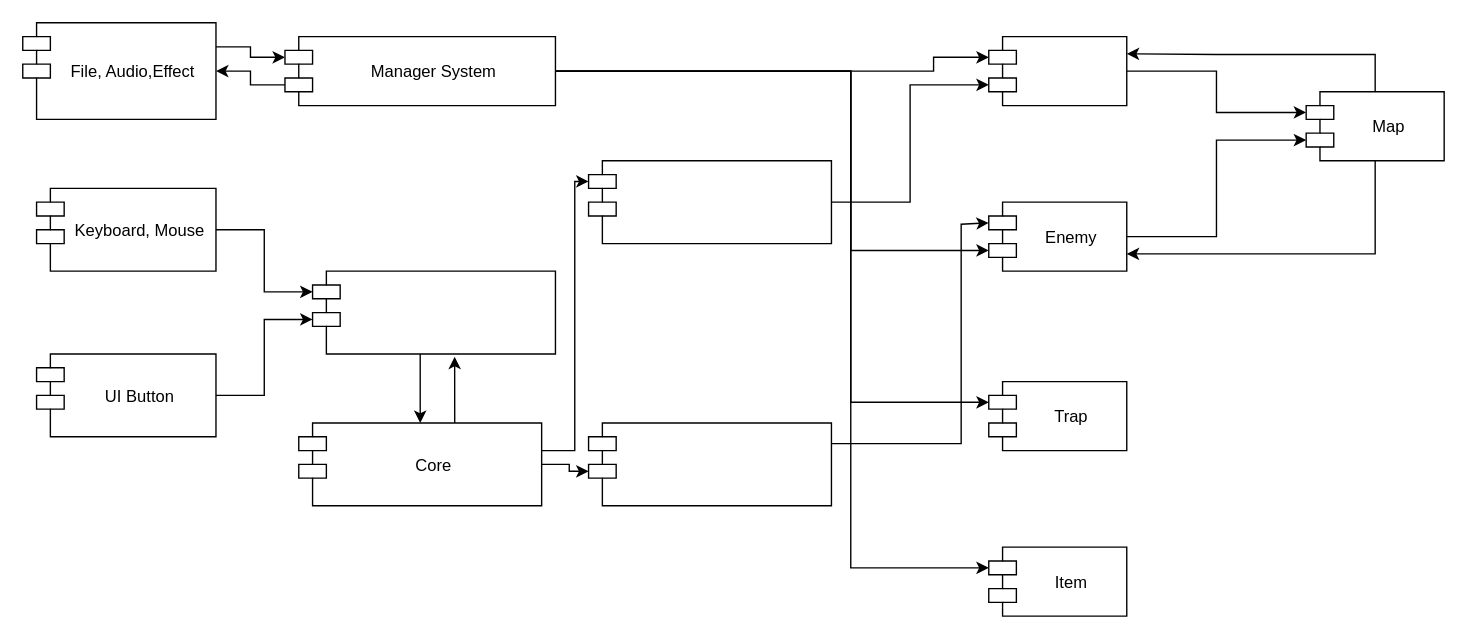
The diagram is 1467 pixels wide and 639 high, and some of its shapes have lost their labels. Here are the shapes that lost their labels. From the top down, the box of each, then its label:
(987, 35, 1127, 106): Player
(587, 159, 831, 244): StateMachine
(311, 270, 555, 354): Maganer Control
(587, 422, 831, 506): AI StateMachine
